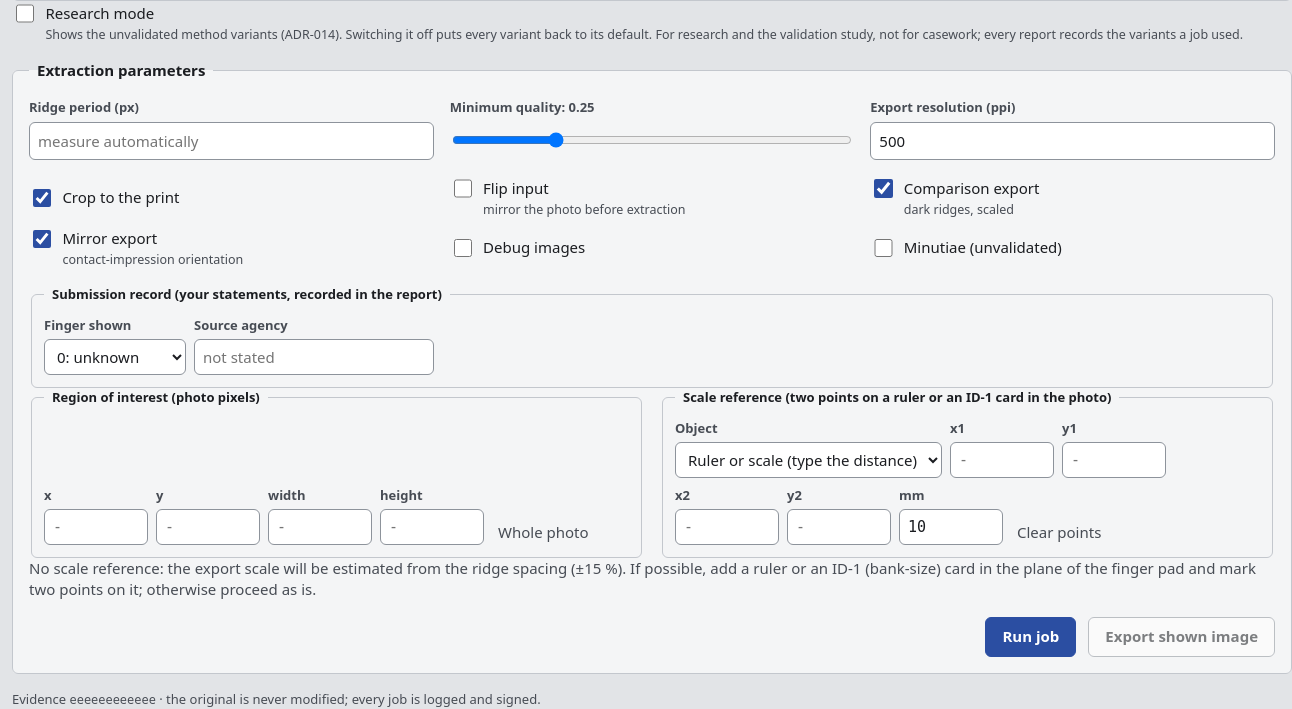
Test: scale sweep (FR-39) › is not offered when the scale is exact
This screenshot has width=1292, height=709.
(page scrolled)
Click the button "Run job": click(1031, 637) [985,617,1076,657]
(page scrolled)
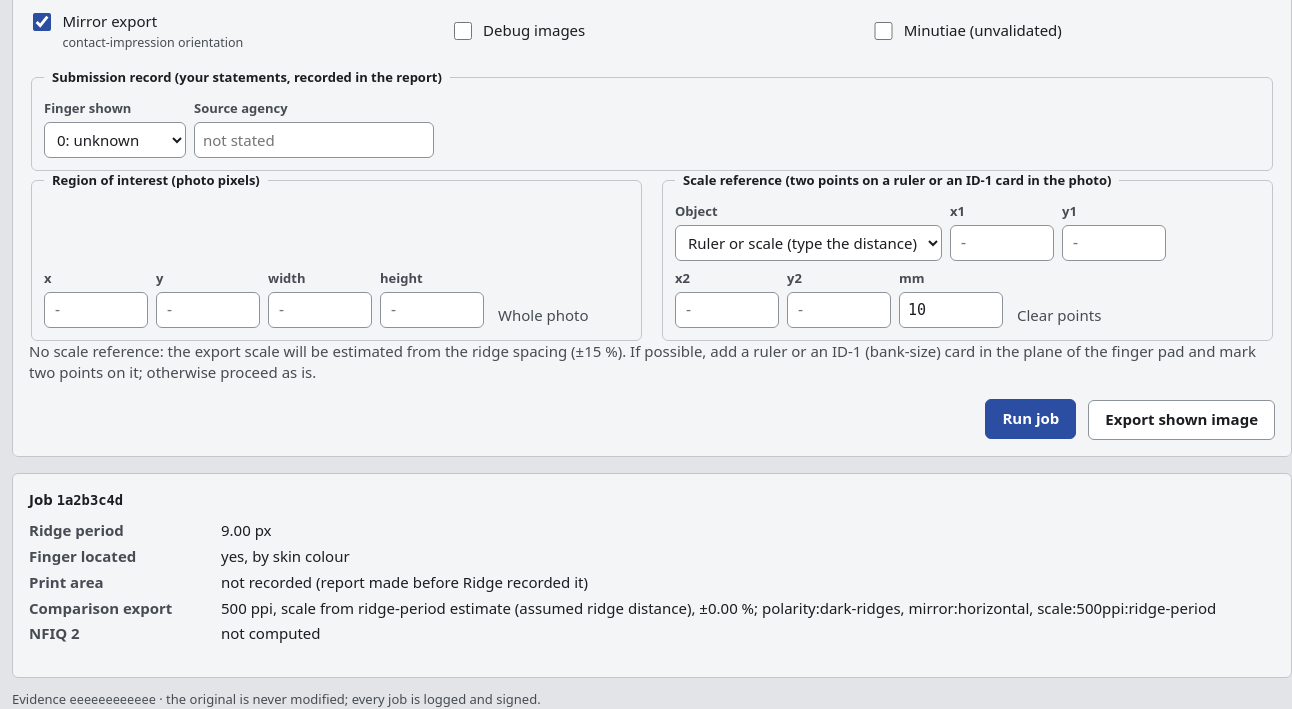
Expected: the heading "Job 1a2b3c4d" is shown, [29,489,356,509]
